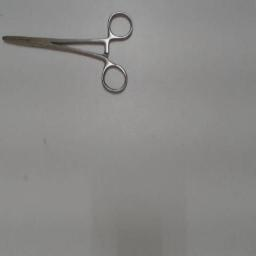Mayo Needle Holder: (1, 8, 137, 100)
